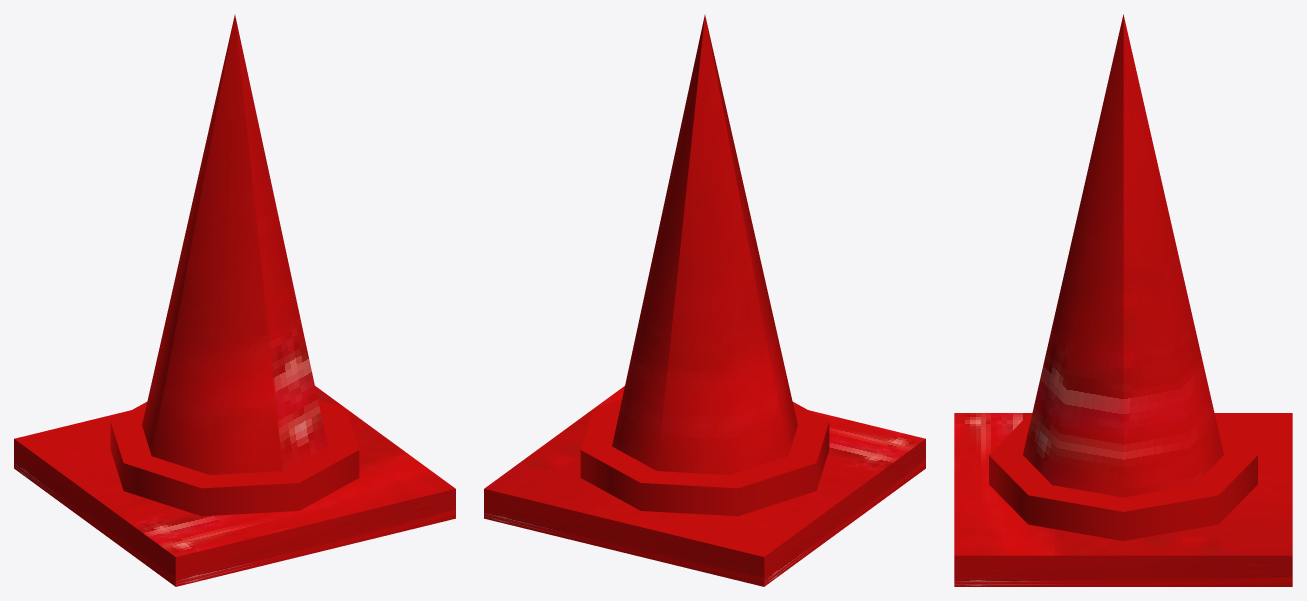
Rendered from corn.fbx.
The picture shows the model from 3 angles, left to right: view 1: azimuth 30°, elevation 25°; view 2: azimuth 150°, elevation 25°; view 3: azimuth 270°, elevation 25°; orthographic projection. The views are drawn at different scales.
Visible parts, largest first — view 1: corn; view 2: corn; view 3: corn.
Part boxes in pixels (x1,y1,x2,y2): corn: (14, 15, 455, 586); corn: (484, 15, 925, 586); corn: (954, 14, 1292, 586).
Size of the model in its own units: 52.02 by 85.14 by 52.02.
